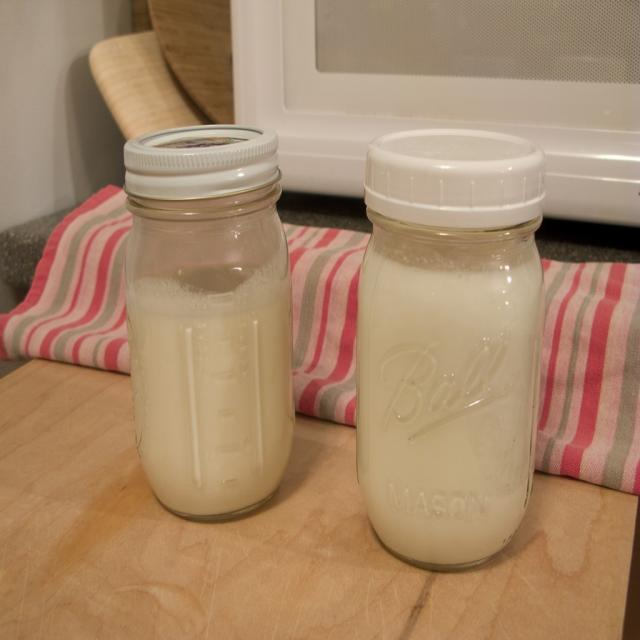Milk: (345, 116, 545, 585), (126, 254, 292, 526)
